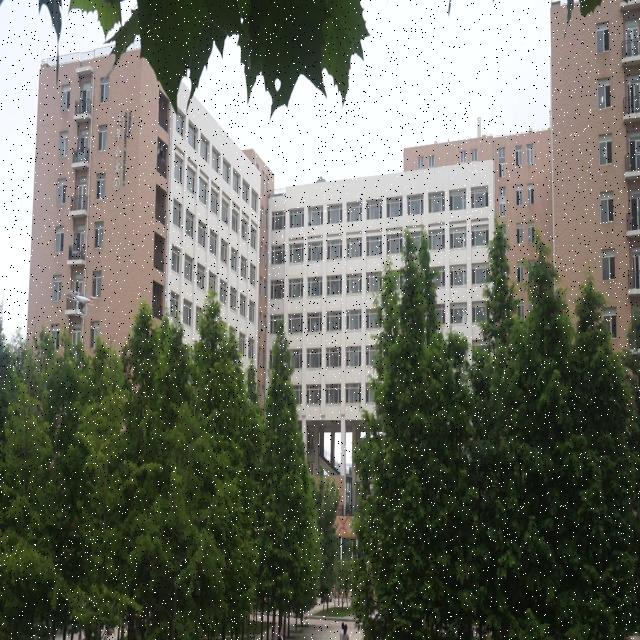UAV: (66, 289, 94, 318)
